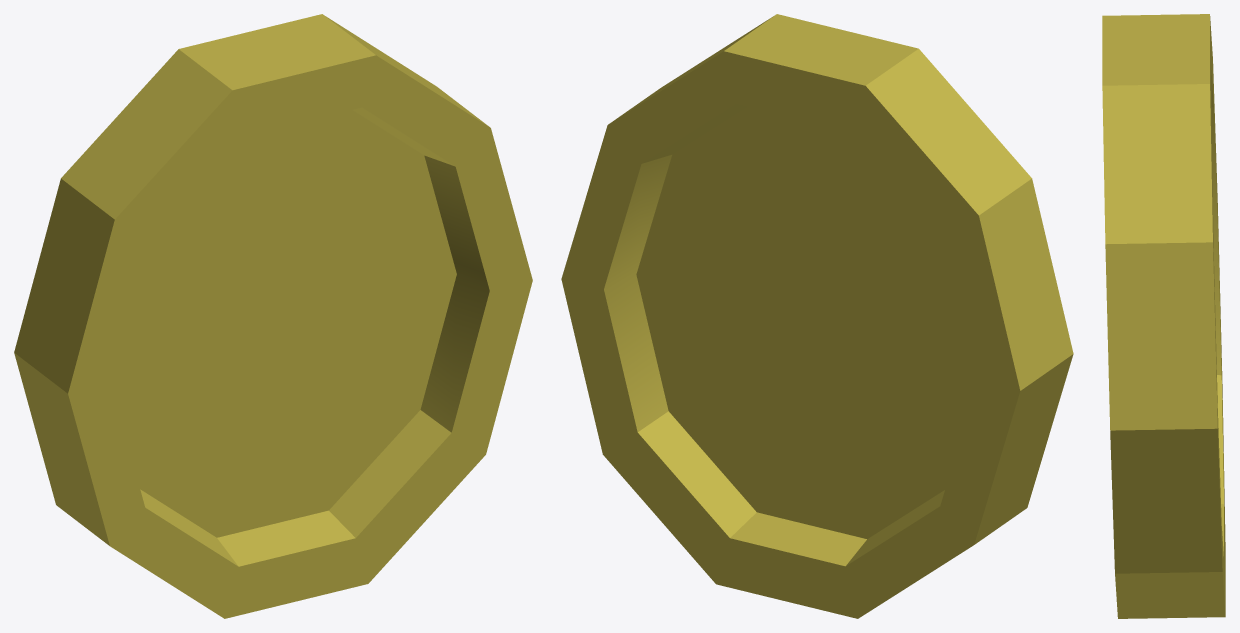
Rendered from coin.fbx.
3 renders of one model, left to right at view 1: azimuth 30°, elevation 25°; view 2: azimuth 150°, elevation 25°; view 3: azimuth 270°, elevation 25°, orthographic.
Parts seen in each view (by area): view 1: pCylinder2; view 2: pCylinder2; view 3: pCylinder2.
Part boxes in pixels (x1,y1,x2,y2): pCylinder2: (14,14,532,618); pCylinder2: (561,14,1073,618); pCylinder2: (1102,14,1225,618).
Bounding box in the file's own units: 1.49 × 1.65 × 0.3434.
